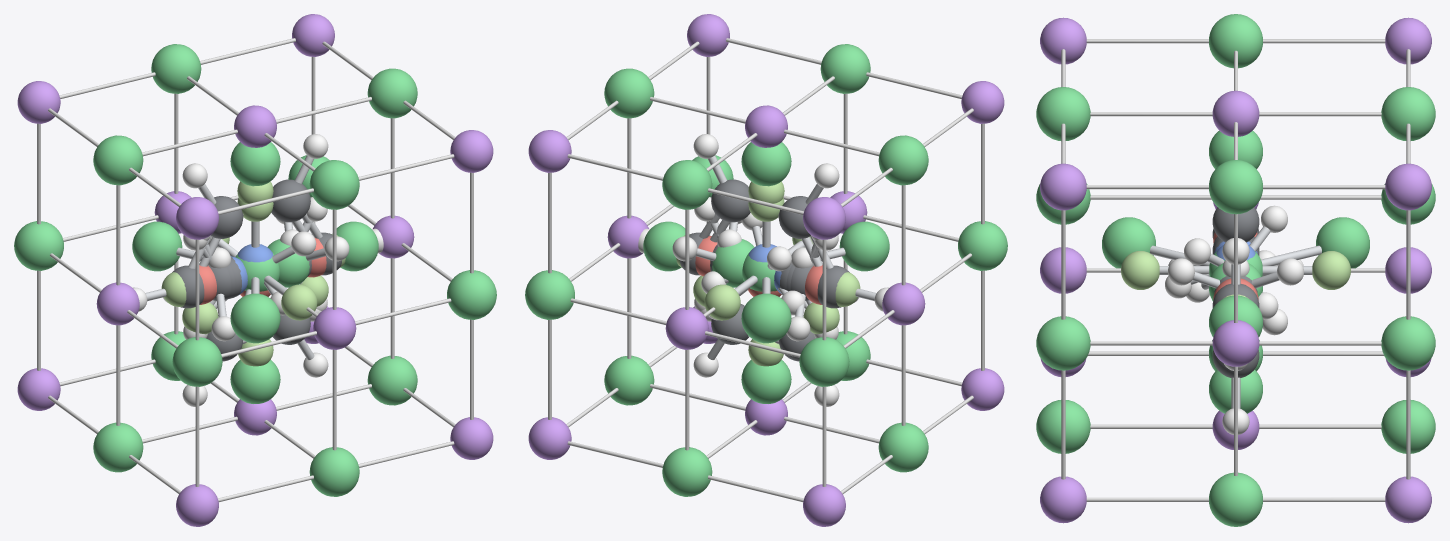
Rendered from molecules.glb.
The picture shows the model from 3 angles, left to right: view 1: azimuth 30°, elevation 25°; view 2: azimuth 150°, elevation 25°; view 3: azimuth 270°, elevation 25°; orthographic projection. The views are drawn at different scales.
Visible parts, largest first — view 1: nacl_Cl, nacl_Na, nacl_bonds0, pcl5_Cl, c6h6_C, sf6_F, c6h6_H, bf3_F, hcl_Cl, c2h6_H, co2_O, c2h4_H (+3 smaller); view 2: nacl_Cl, nacl_Na, nacl_bonds0, pcl5_Cl, c6h6_C, sf6_F, c6h6_H, bf3_F, hcl_Cl, c2h6_H, co2_O, c2h4_H (+5 smaller); view 3: nacl_Cl, nacl_Na, nacl_bonds0, pcl5_Cl, sf6_F, c6h6_C, ch4_H, c2h6_H, nh3_H, pcl5_bonds1, c2h6_bonds1, c6h6_H (+1 smaller).
Part boxes in pixels (<box>): nacl_Cl: <box>14,44,496,496</box>; nacl_Na: <box>17,14,493,526</box>; nacl_bonds0: <box>37,38,473,502</box>; pcl5_Cl: <box>132,142,378,403</box>; c6h6_C: <box>172,179,341,361</box>; sf6_F: <box>161,181,345,366</box>; c6h6_H: <box>132,134,383,406</box>; bf3_F: <box>182,198,328,334</box>; hcl_Cl: <box>267,239,309,287</box>; c2h6_H: <box>163,218,349,341</box>; co2_O: <box>199,238,326,304</box>; c2h4_H: <box>183,197,327,339</box>; nacl_Cl: <box>525,44,1007,496</box>; nacl_Na: <box>528,14,1004,526</box>; nacl_bonds0: <box>548,38,984,502</box>; pcl5_Cl: <box>643,142,889,403</box>; c6h6_C: <box>680,179,849,361</box>; sf6_F: <box>676,181,860,366</box>; c6h6_H: <box>638,134,889,406</box>; bf3_F: <box>693,198,839,334</box>; hcl_Cl: <box>712,239,754,287</box>; c2h6_H: <box>672,221,858,341</box>; co2_O: <box>695,236,822,304</box>; c2h4_H: <box>694,197,838,339</box>; nacl_Cl: <box>1036,14,1435,526</box>; nacl_Na: <box>1040,17,1431,523</box>; nacl_bonds0: <box>1061,39,1410,501</box>; pcl5_Cl: <box>1102,130,1369,413</box>; sf6_F: <box>1121,251,1350,298</box>; c6h6_C: <box>1212,207,1259,377</box>; ch4_H: <box>1184,205,1287,335</box>; c2h6_H: <box>1168,258,1303,370</box>; nh3_H: <box>1165,250,1278,319</box>; pcl5_bonds1: <box>1150,245,1321,265</box>; c2h6_bonds1: <box>1192,265,1279,288</box>; c6h6_H: <box>1222,408,1249,434</box>.
Size of the model in its own units: 0.1827 by 0.1827 by 0.1827.
